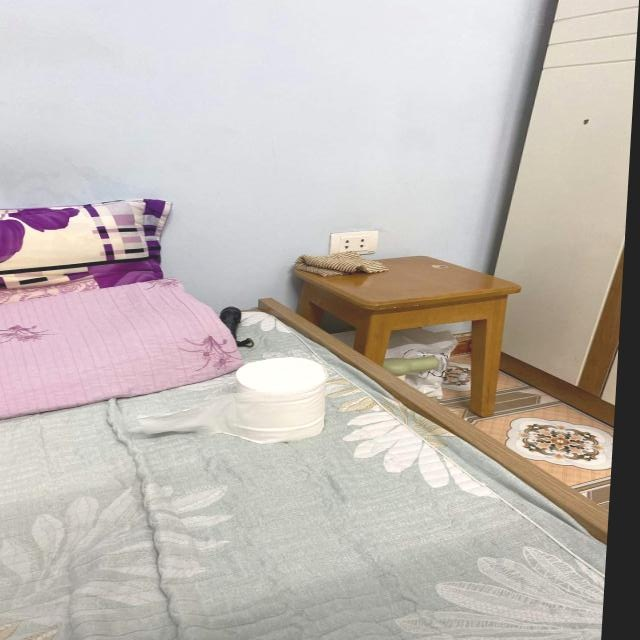outlet: (329, 229, 380, 255)
